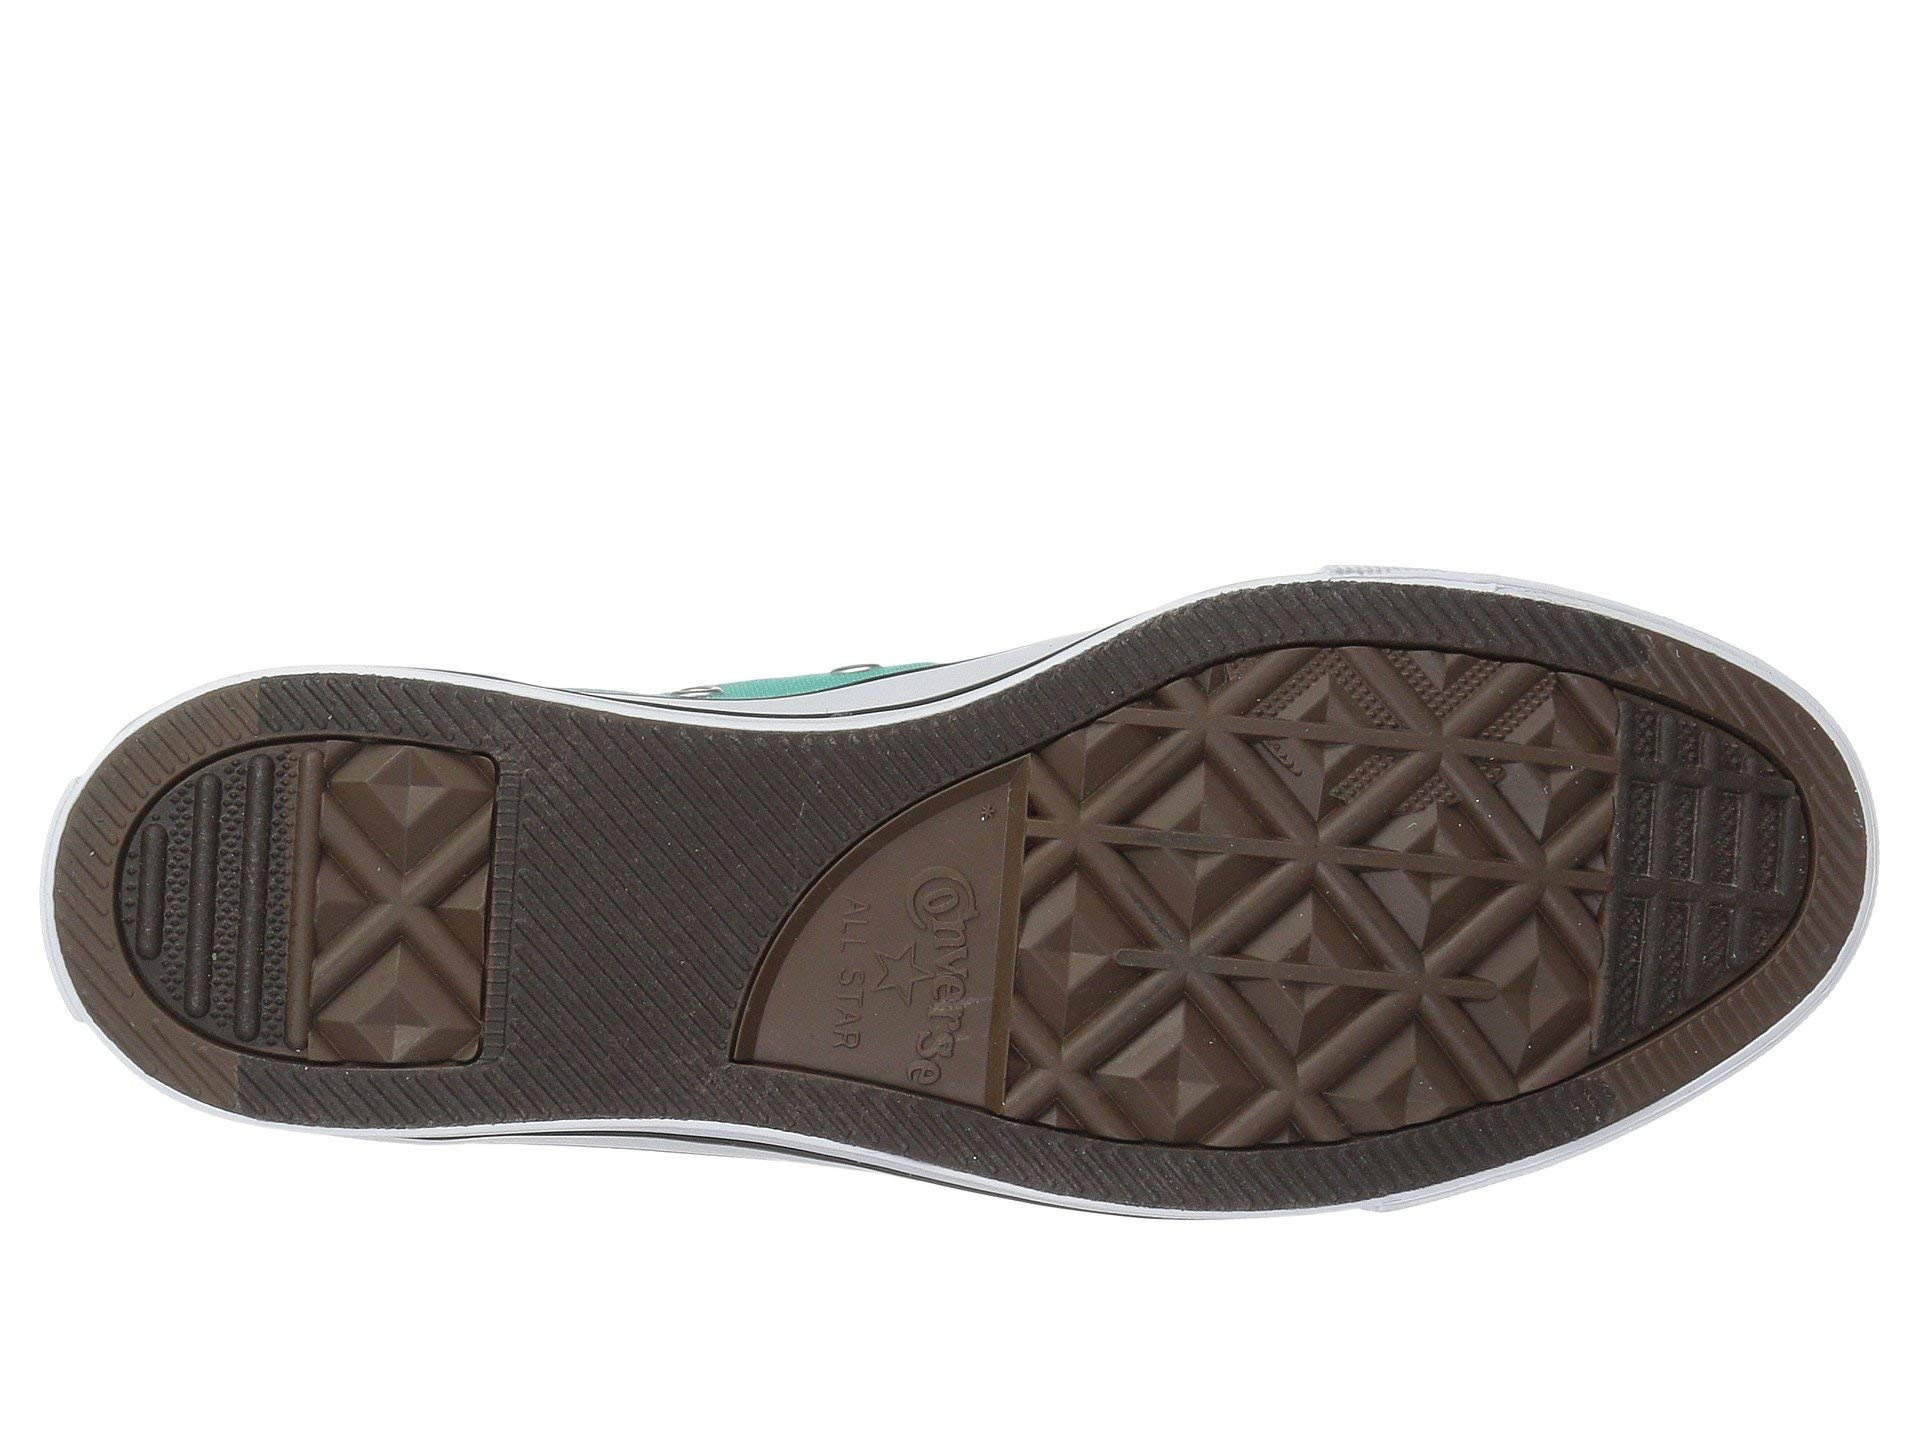circle: (807, 821, 1004, 1103)
line: (1113, 675, 1601, 1085), (139, 734, 502, 1100), (522, 734, 739, 1110)
quad: (1113, 675, 1601, 1085), (139, 734, 502, 1100)
star: (807, 821, 1004, 1103)
text: (1113, 675, 1601, 1085), (807, 821, 1004, 1103)
triangle: (139, 734, 502, 1100)
